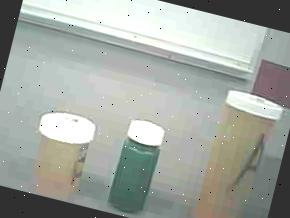Bottle A: (182, 81, 290, 218)
Bottle B: (18, 100, 109, 206)
Bottle C: (106, 110, 177, 218)
